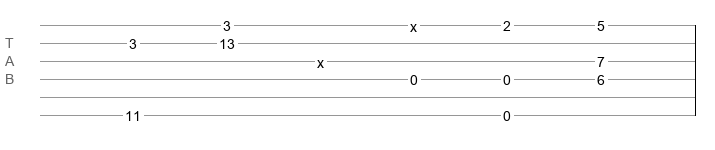0: (410, 72, 418, 82), (503, 72, 511, 82), (503, 108, 511, 118)
11: (125, 108, 141, 118)
13: (219, 36, 235, 46)
2: (503, 18, 511, 28)
3: (129, 36, 137, 46), (223, 18, 231, 28)
5: (597, 18, 605, 28)
6: (597, 72, 605, 82)
7: (597, 54, 605, 64)
x: (317, 55, 324, 63), (410, 19, 417, 27)
